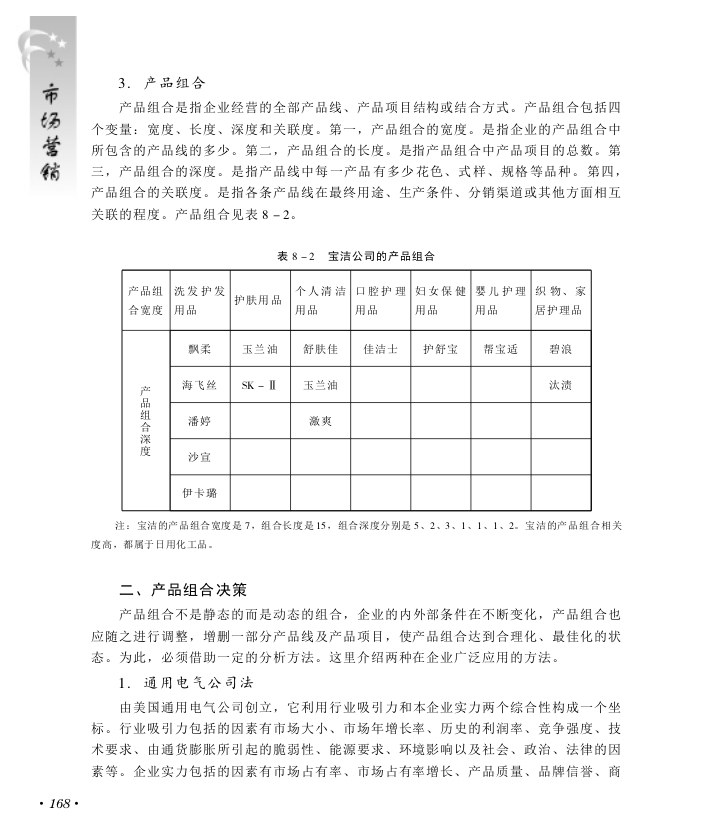table: (121, 269, 592, 512)
